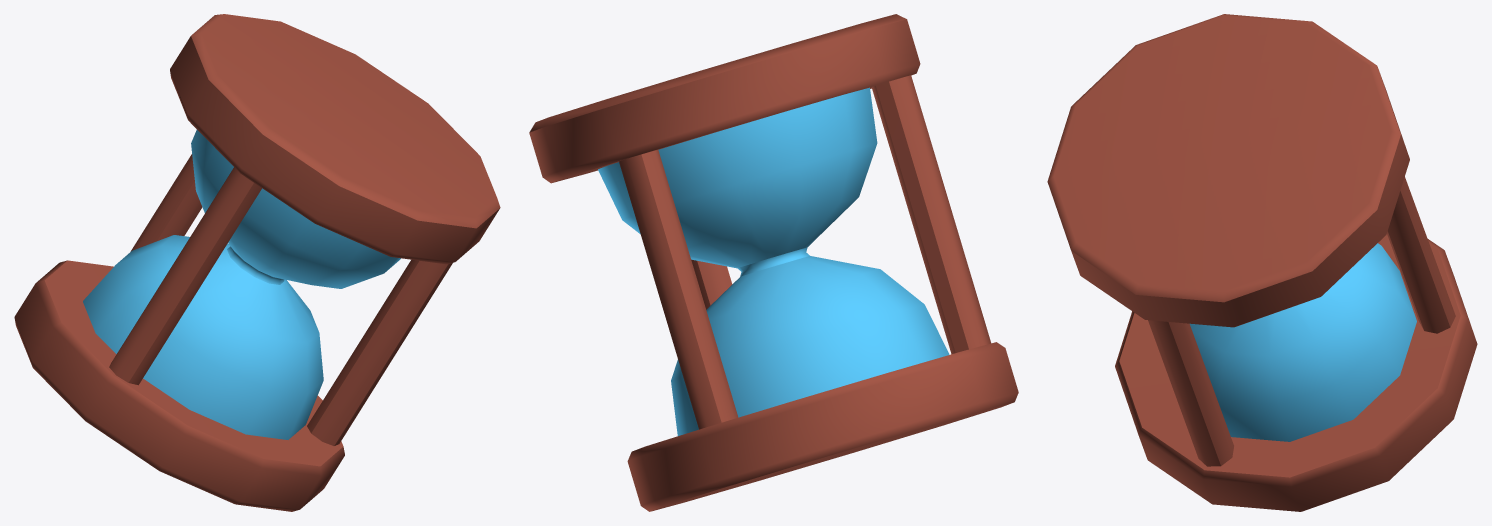
The picture shows the model from 3 angles, left to right: view 1: azimuth 30°, elevation 25°; view 2: azimuth 150°, elevation 25°; view 3: azimuth 270°, elevation 25°; orthographic projection. The views are drawn at different scales.
Parts seen in each view (by area): view 1: model_0.009; view 2: model_0.009; view 3: model_0.009.
Part boxes in pixels (x1,y1,x2,y2): model_0.009: (14,14,500,511); model_0.009: (529,14,1018,511); model_0.009: (1047,14,1477,511).
Bounding box in the file's own units: 4.27 × 4.36 × 3.81.
